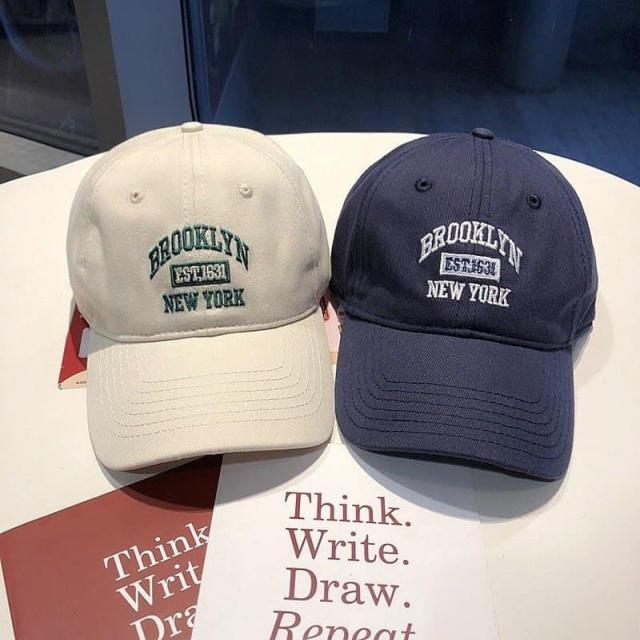no_helmet: (314, 129, 612, 501), (57, 120, 344, 494)
